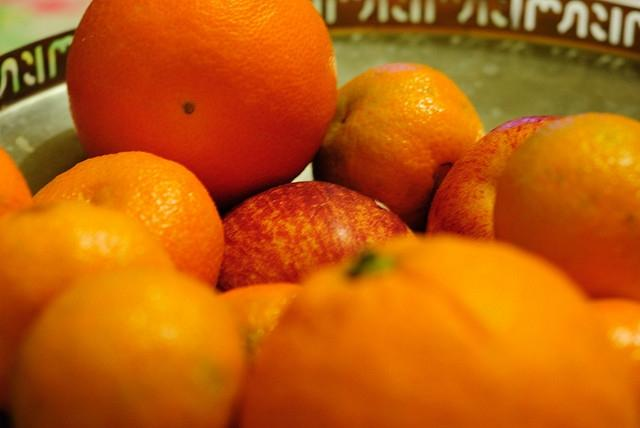apple: (216, 181, 418, 290), (425, 115, 570, 239)
orange: (238, 233, 640, 428), (66, 0, 337, 214), (15, 266, 250, 428), (2, 200, 176, 403), (312, 61, 486, 238), (492, 112, 640, 304), (27, 151, 225, 286), (214, 282, 300, 362), (590, 297, 638, 395), (0, 142, 33, 212)
